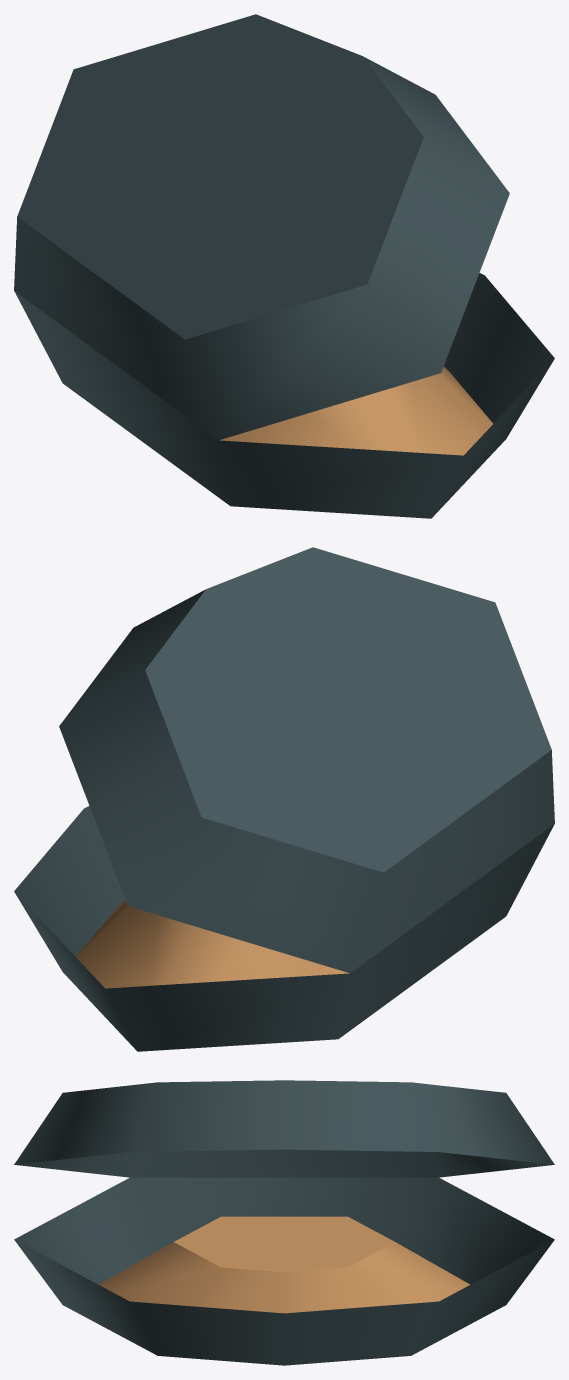
The model's file is mussel-open.gltf.
3 views of the same model, one above another, from view 1: azimuth 30°, elevation 25°; view 2: azimuth 150°, elevation 25°; view 3: azimuth 270°, elevation 25° (orthographic). The views are drawn at different scales.
Parts seen in each view (by area): view 1: mussel-open; view 2: mussel-open; view 3: mussel-open.
Part boxes in pixels (box(x1,y1,x2,y2)): mussel-open: box(14, 14, 554, 518); mussel-open: box(14, 547, 554, 1051); mussel-open: box(14, 1080, 554, 1365).
Bounding box in the file's own units: 0.0961 × 0.0804 × 0.1554.
